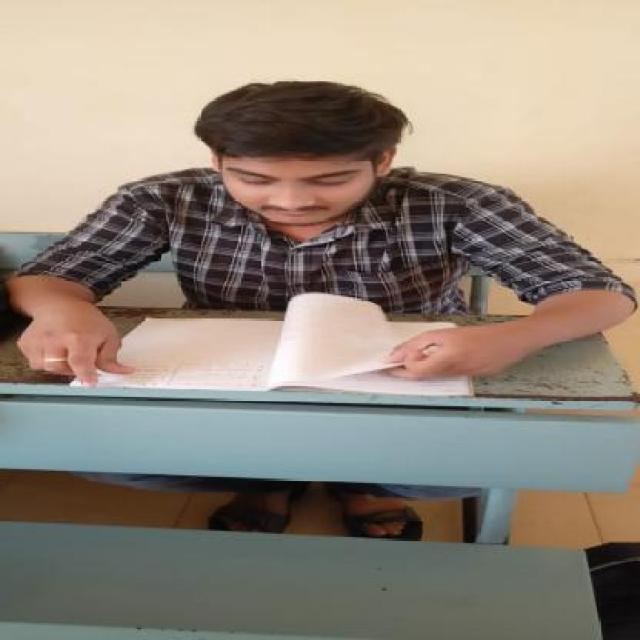good: (0, 67, 640, 404)
